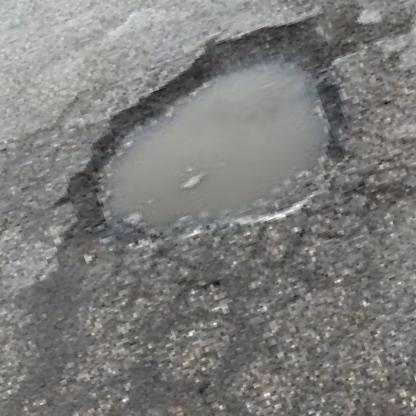pothole: (35, 0, 384, 290)
